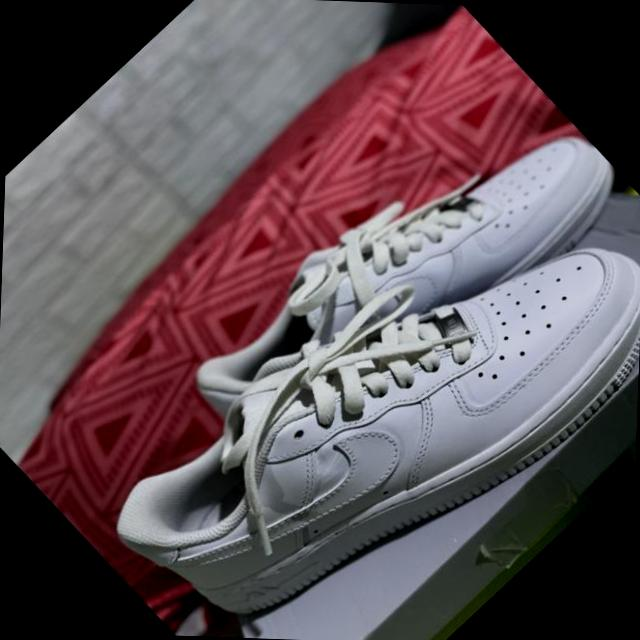nike_original_airforce: (90, 113, 640, 640), (150, 54, 635, 539)
